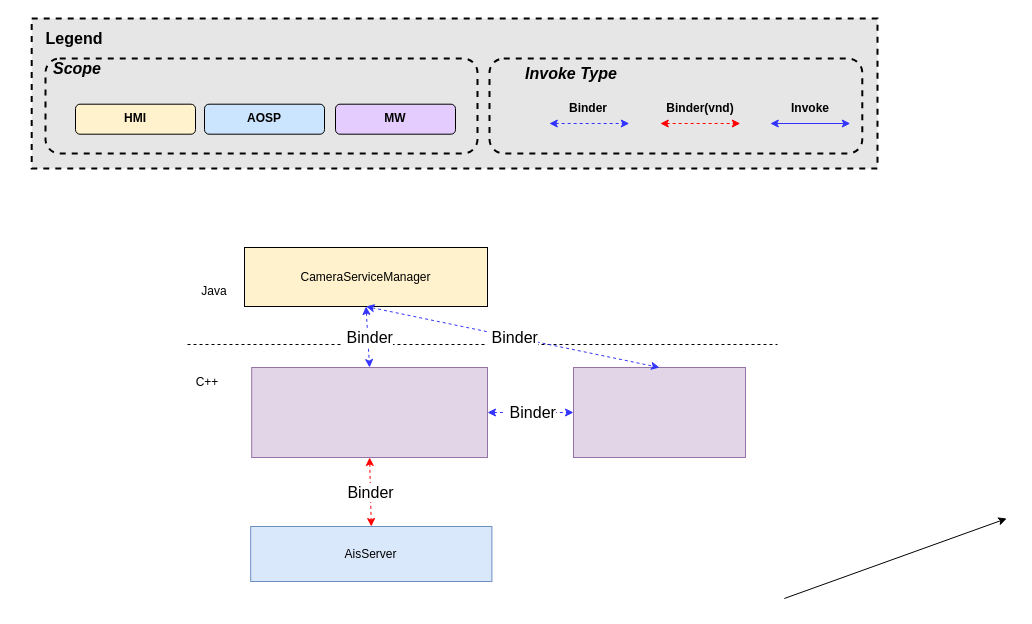
This 1032x624 diagram has some shape labels left out. The shapes that lost their labels are listed below. From the top down, each one's centre as x and y in pixels, then its label:
At [369,412]: "HHTCameraService".
At [659,412]: "HHTMicroService".
